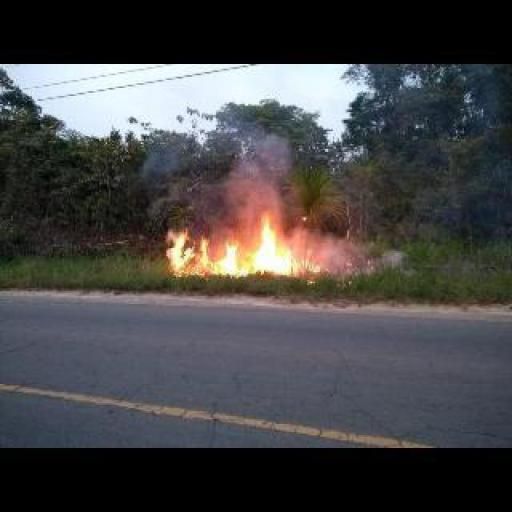smoke: (166, 208, 296, 280), (216, 123, 291, 221), (291, 221, 408, 272)
